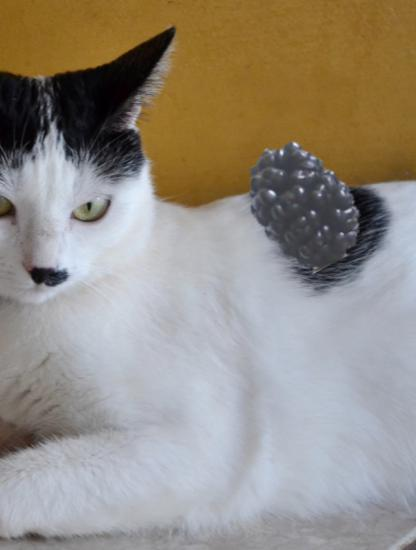Mulberry: (236, 138, 369, 271)
